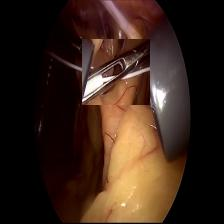Grasper: (82, 40, 150, 106)
